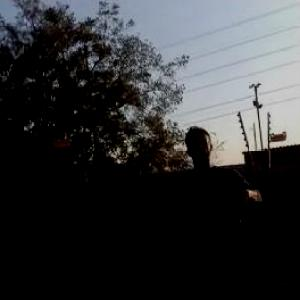follow: (172, 119, 280, 299)
